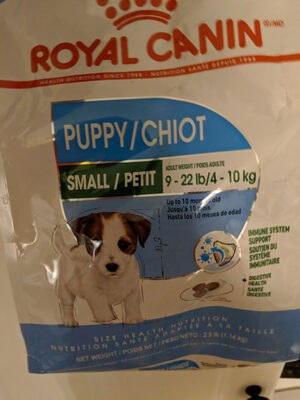Puppy Food: (15, 20, 285, 380)
